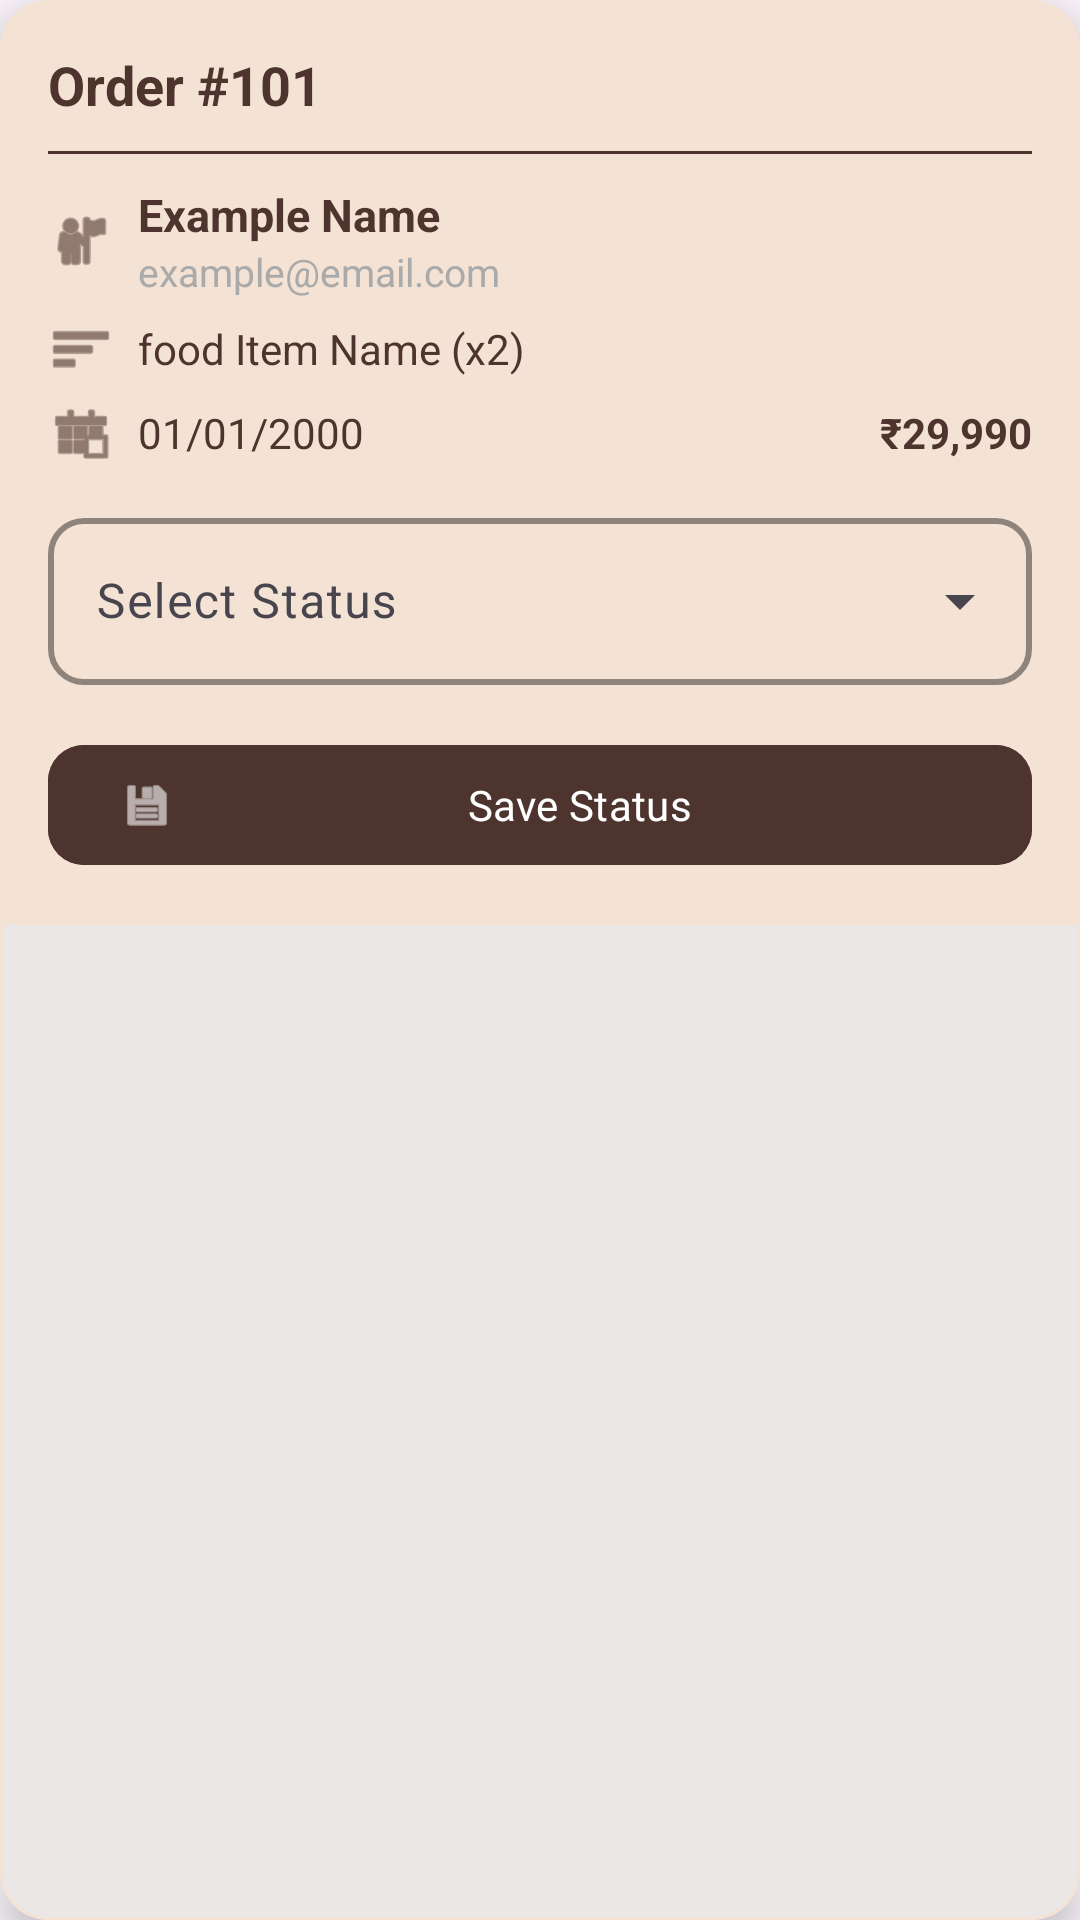

Locate icon controls on the screen. Image size 1080w x 1920h, boxes as [x1=x1, y1=y1, x2=x2, y2=y2].
today: [x1=55, y1=409, x2=109, y2=459]
